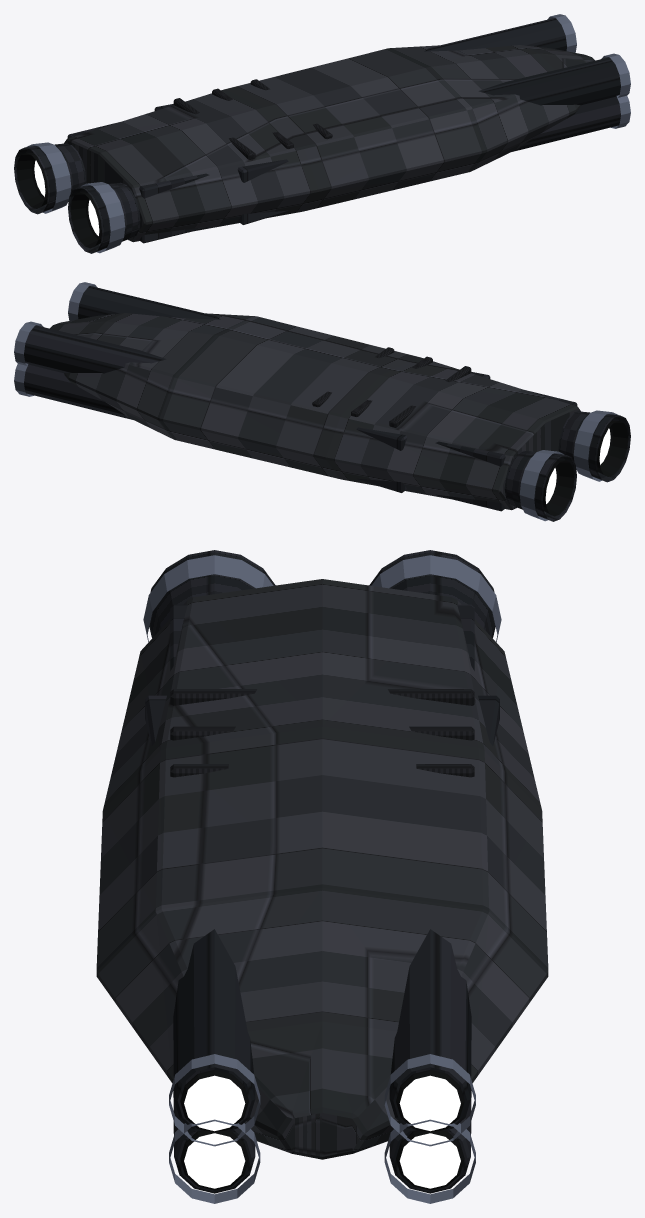
The model's file is torpedo_boat.glb.
The picture shows the model from 3 angles, top to bottom: view 1: azimuth 30°, elevation 25°; view 2: azimuth 150°, elevation 25°; view 3: azimuth 270°, elevation 25°; orthographic projection. The views are drawn at different scales.
Visible parts, largest first — view 1: torpedo_boat; view 2: torpedo_boat; view 3: torpedo_boat.
Part boxes in pixels (x1,y1,x2,y2): torpedo_boat: (14,14,630,253); torpedo_boat: (14,282,630,521); torpedo_boat: (96,550,548,1203).
Bounding box in the file's own units: 22 × 3.38 × 8.04.
Materials: 1 (1 with a texture image).
